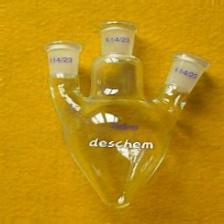Pear shaped flask: (13, 19, 206, 208)
